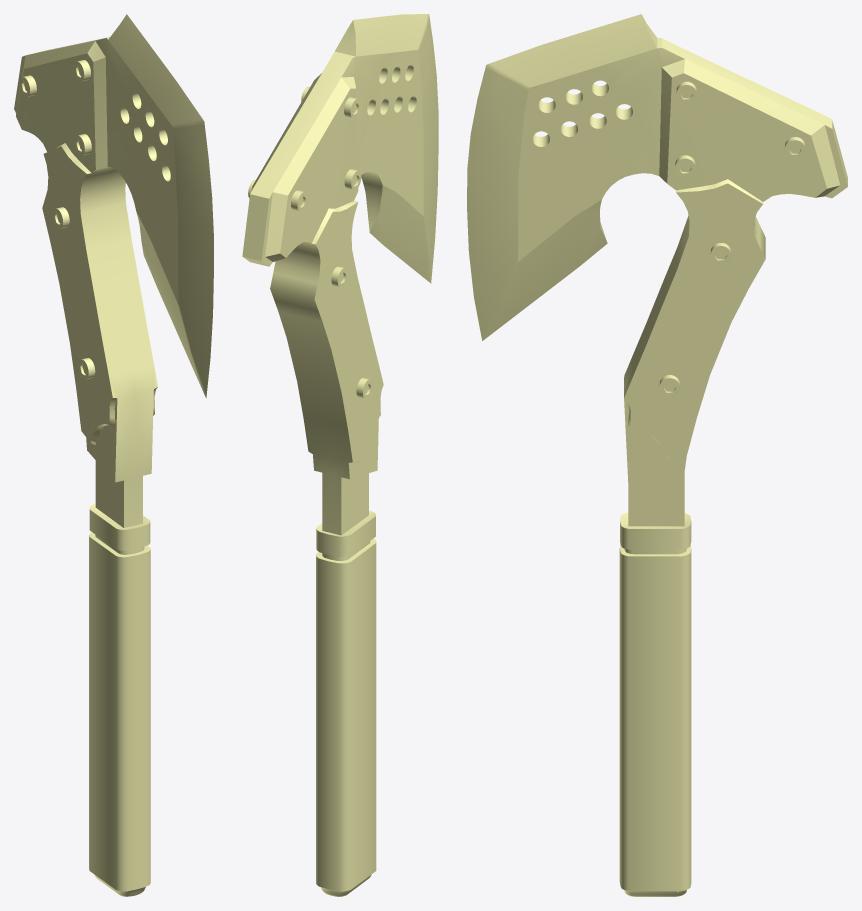
The model's file is MangaKa Props - M_R_MilitaryWeapons_Axe_01.glb.
3 views of the same model, side by side, from view 1: azimuth 30°, elevation 25°; view 2: azimuth 150°, elevation 25°; view 3: azimuth 270°, elevation 25° (orthographic). The views are drawn at different scales.
Visible parts, largest first — view 1: M_R_MilitaryWeapons_Axe_01_blueScreen, M_R_MilitaryWeapons_Axe_01_Handle_blueScreen; view 2: M_R_MilitaryWeapons_Axe_01_blueScreen, M_R_MilitaryWeapons_Axe_01_Handle_blueScreen; view 3: M_R_MilitaryWeapons_Axe_01_blueScreen, M_R_MilitaryWeapons_Axe_01_Handle_blueScreen.
Part boxes in pixels (x1=…): M_R_MilitaryWeapons_Axe_01_blueScreen: x1=14, y1=14, x2=213, y2=896; M_R_MilitaryWeapons_Axe_01_Handle_blueScreen: x1=89, y1=503, x2=150, y2=891; M_R_MilitaryWeapons_Axe_01_blueScreen: x1=242, y1=14, x2=438, y2=896; M_R_MilitaryWeapons_Axe_01_Handle_blueScreen: x1=316, y1=510, x2=376, y2=891; M_R_MilitaryWeapons_Axe_01_blueScreen: x1=467, y1=14, x2=847, y2=896; M_R_MilitaryWeapons_Axe_01_Handle_blueScreen: x1=619, y1=512, x2=691, y2=891.
Size of the model in its own units: 0.0358 by 0.5145 by 0.202.
